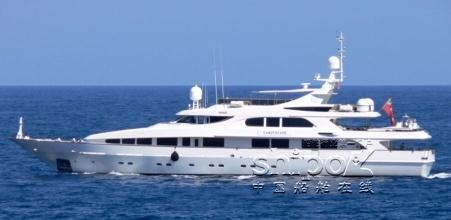yacht: (21, 58, 438, 175)
